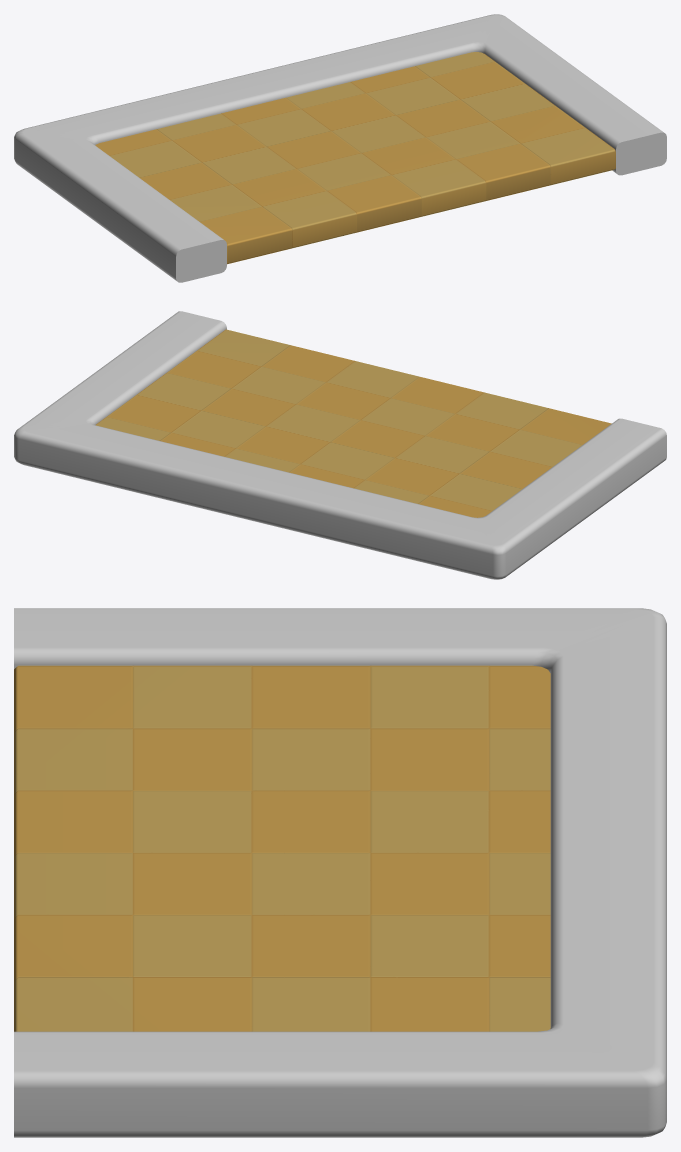
Rendered from SquareGridFloor.fbx.
3 renders of one model, top to bottom at view 1: azimuth 30°, elevation 25°; view 2: azimuth 150°, elevation 25°; view 3: azimuth 270°, elevation 25°, orthographic. The views are drawn at different scales.
Visible parts, largest first — view 1: SquareGridFloor; view 2: SquareGridFloor; view 3: SquareGridFloor.
Part boxes in pixels (bbox=[...]): SquareGridFloor: bbox=[14, 14, 666, 282]; SquareGridFloor: bbox=[14, 311, 666, 579]; SquareGridFloor: bbox=[14, 608, 666, 1137].
Size of the model in its own units: 1250 by 81.08 by 730.
